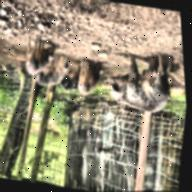boar: (101, 45, 179, 123), (71, 54, 112, 100), (31, 52, 76, 91), (18, 38, 62, 77)
